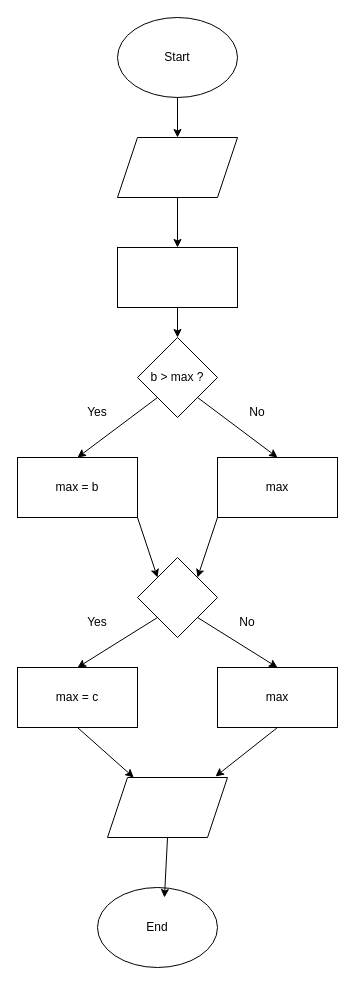
The diagram is 355 pixels wide and 985 high, and some of its shapes have lost their labels. Here are the shapes that lost their labels. From the top down, the centre of each, then its label:
At (x=177, y=167): "Nhập a, b, c".
At (x=177, y=277): "max = a".
At (x=177, y=597): "c > max ?".
At (x=167, y=807): "Hiển thị max".
